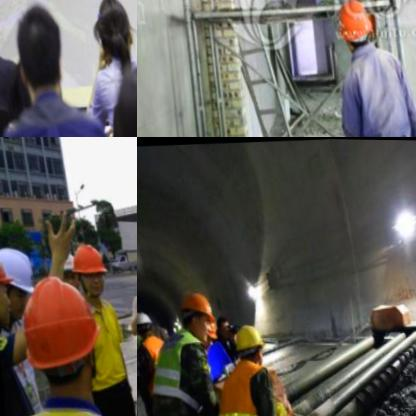head: (7, 4, 66, 97), (100, 63, 137, 137), (86, 0, 130, 59)
helmet: (15, 278, 111, 407), (64, 239, 109, 301), (173, 289, 218, 349), (0, 244, 33, 321), (332, 0, 373, 54), (227, 320, 264, 366), (0, 245, 13, 332), (137, 306, 153, 345)
